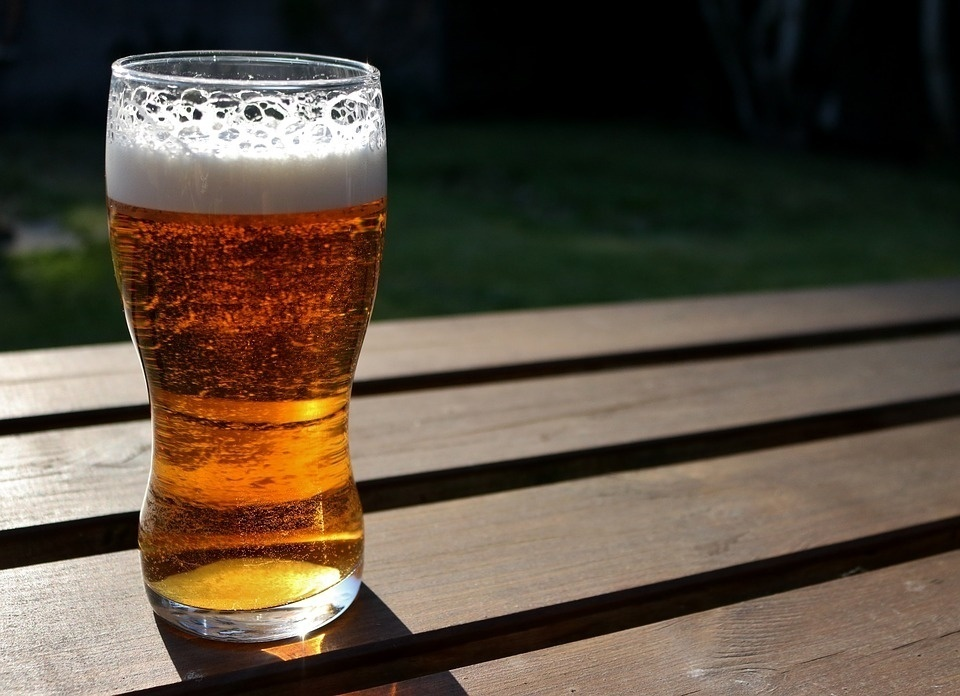whiskey: (112, 61, 389, 426)
